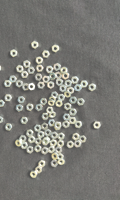nut: (31, 41, 39, 49), (52, 45, 60, 53), (42, 50, 50, 58), (16, 65, 24, 73), (46, 66, 54, 74), (28, 83, 36, 91), (56, 79, 64, 87), (71, 76, 79, 84), (74, 84, 82, 92), (26, 104, 34, 112), (75, 121, 83, 129), (41, 123, 49, 131), (44, 129, 52, 137), (67, 141, 75, 149), (28, 136, 36, 144), (55, 147, 63, 155), (51, 160, 59, 168), (58, 158, 66, 166), (38, 160, 46, 168), (35, 166, 43, 174), (30, 171, 38, 179), (93, 122, 102, 129), (10, 50, 18, 57), (36, 57, 43, 65), (23, 61, 31, 68), (36, 65, 44, 72), (21, 71, 29, 78), (54, 63, 61, 71), (61, 67, 68, 75), (35, 74, 43, 81), (49, 73, 57, 80), (9, 76, 17, 83), (4, 81, 12, 88), (16, 80, 23, 88), (65, 80, 72, 88), (89, 84, 96, 92), (67, 87, 75, 94), (60, 85, 67, 93), (64, 91, 72, 98), (58, 94, 66, 101), (51, 92, 59, 99), (70, 97, 78, 104), (77, 99, 85, 106), (49, 96, 57, 103), (65, 103, 72, 111), (40, 98, 47, 106), (36, 104, 43, 112), (4, 95, 12, 102), (46, 107, 54, 114), (49, 111, 56, 119), (63, 114, 71, 121), (5, 124, 13, 131), (69, 117, 77, 124), (63, 121, 70, 129), (48, 120, 56, 127), (54, 122, 62, 129), (34, 125, 42, 132), (26, 130, 34, 137), (38, 131, 45, 139), (51, 132, 58, 140), (58, 133, 65, 141), (73, 133, 80, 141), (79, 136, 87, 143), (15, 140, 23, 147), (27, 146, 34, 154), (42, 138, 49, 146), (35, 145, 42, 153), (57, 141, 65, 148), (42, 147, 49, 155), (28, 67, 35, 74), (43, 76, 50, 83), (63, 73, 70, 80), (22, 84, 29, 91), (38, 82, 45, 89), (48, 82, 55, 89), (81, 81, 88, 88), (56, 100, 63, 107), (70, 109, 77, 116), (18, 97, 25, 104), (16, 105, 23, 112), (42, 113, 49, 120), (21, 117, 28, 124), (54, 124, 61, 131), (75, 141, 82, 148), (35, 138, 42, 145), (21, 143, 28, 150), (44, 137, 51, 144), (50, 140, 57, 147), (48, 147, 55, 154), (52, 153, 59, 160), (19, 136, 27, 142), (56, 72, 62, 79), (48, 100, 55, 106), (0, 100, 5, 108), (58, 154, 64, 160), (0, 117, 4, 124), (0, 65, 2, 73)
